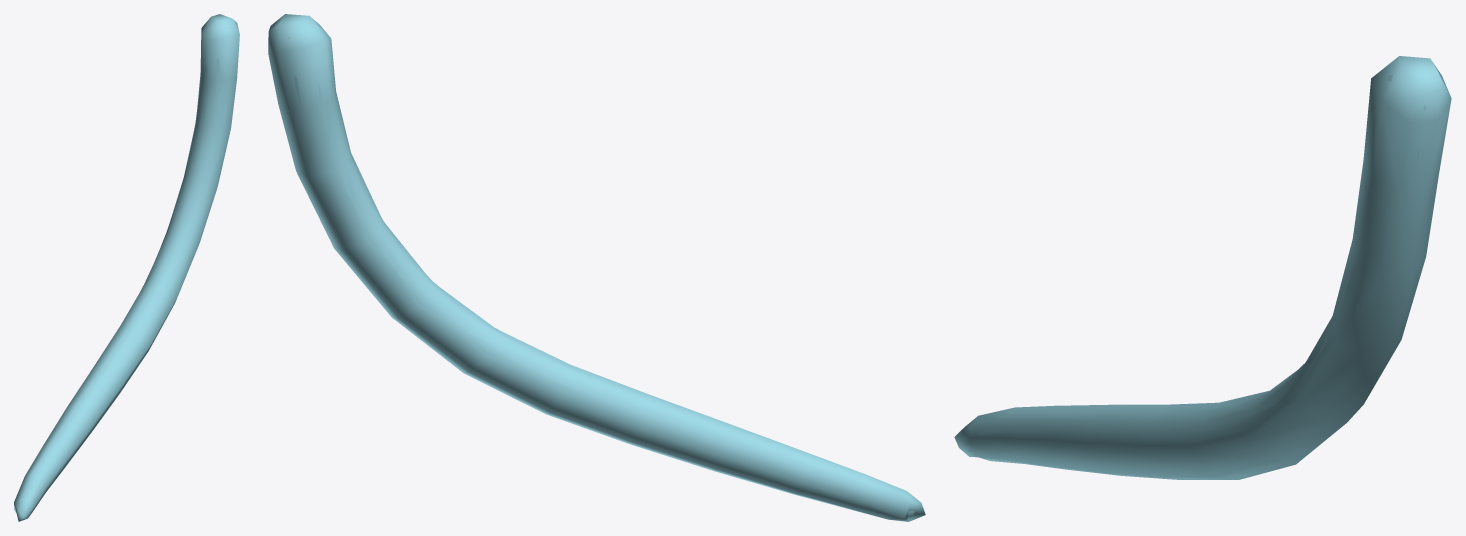
3 renders of one model, left to right at view 1: azimuth 30°, elevation 25°; view 2: azimuth 150°, elevation 25°; view 3: azimuth 270°, elevation 25°, orthographic. The views are drawn at different scales.
Parts seen in each view (by area): view 1: CC L7 low, CC L7; view 2: CC L7 low, CC L7; view 3: CC L7 low, CC L7.
Part boxes in pixels (bbox=[...]): CC L7 low: bbox=[14, 14, 239, 521]; CC L7: bbox=[23, 26, 230, 513]; CC L7 low: bbox=[268, 14, 925, 521]; CC L7: bbox=[287, 36, 914, 517]; CC L7 low: bbox=[954, 56, 1451, 479]; CC L7: bbox=[966, 74, 1440, 478].
Size of the model in its own units: 2.71 by 2.7 by 1.75.
